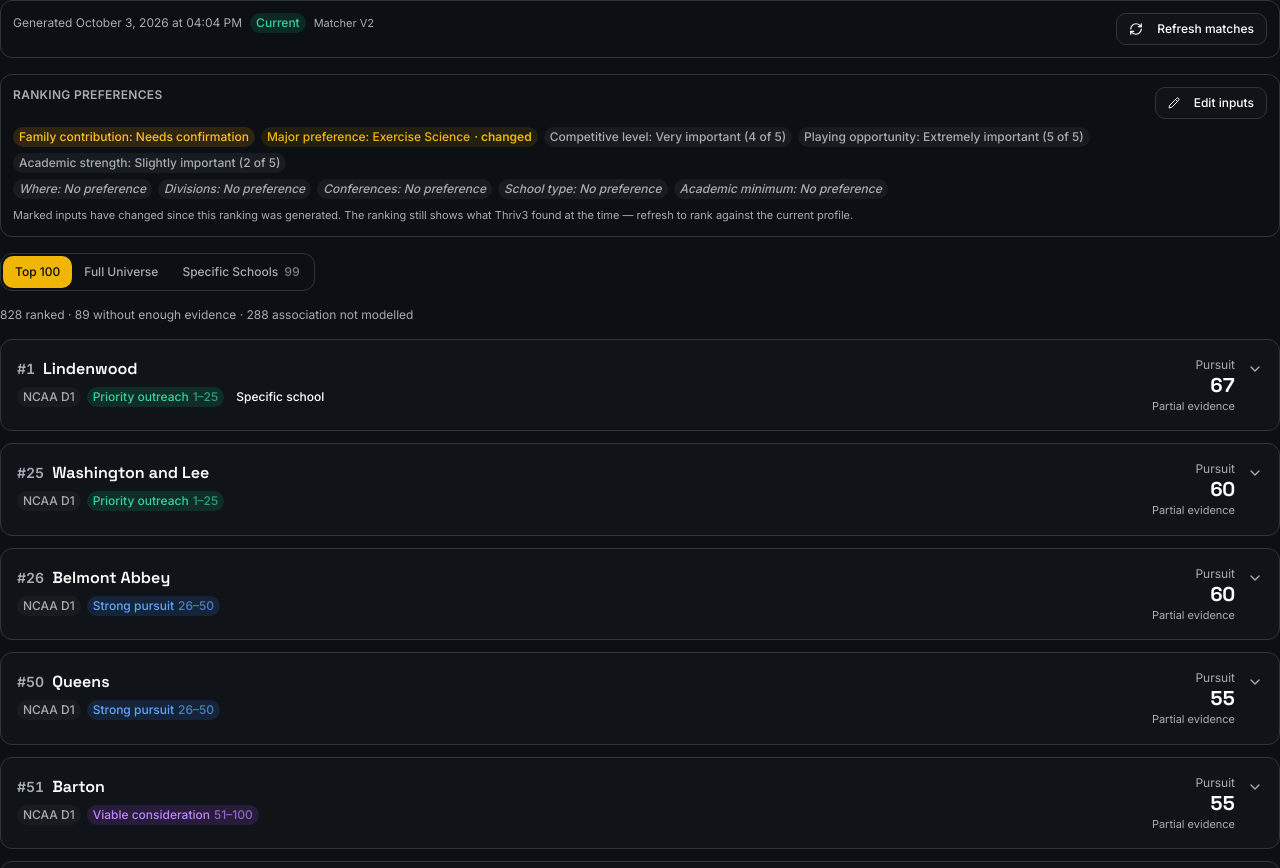
Scenario: A10 §H. Specific Search lives inside Specific Schools › H1. the search control is inside the Specific Schools tab
Click the tab "Specific Schools99": click(241, 272) [170,256,312,288]
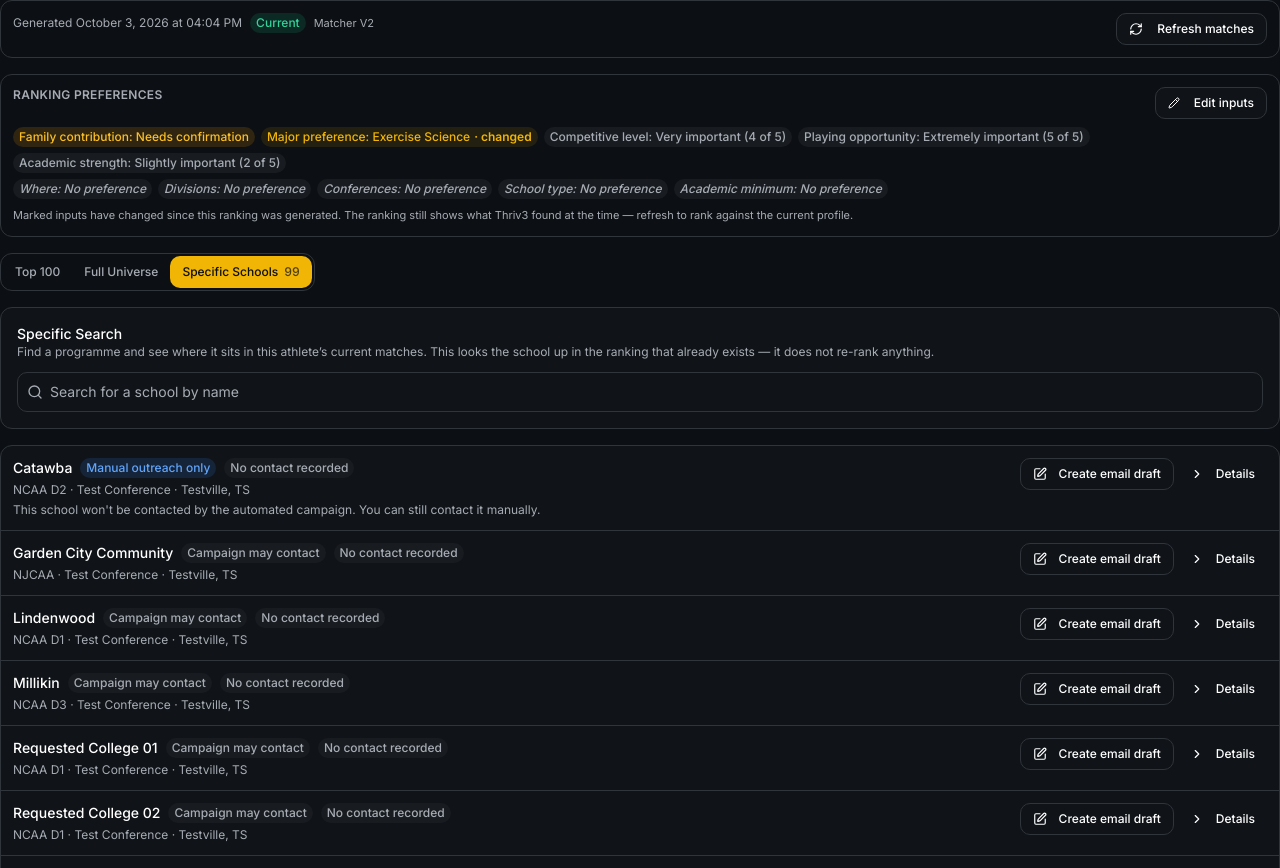
Result: the field with placeholder "Search for a school by name" is shown at [17,372,1263,412]
